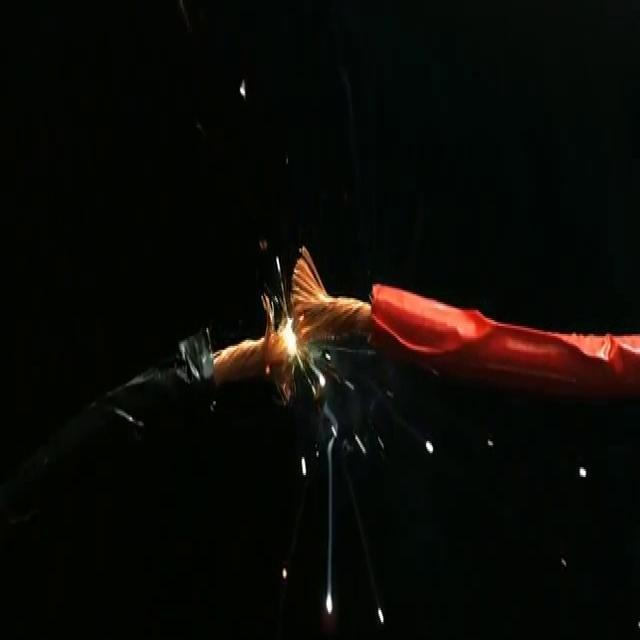fire: (264, 300, 308, 373), (319, 562, 345, 622)
